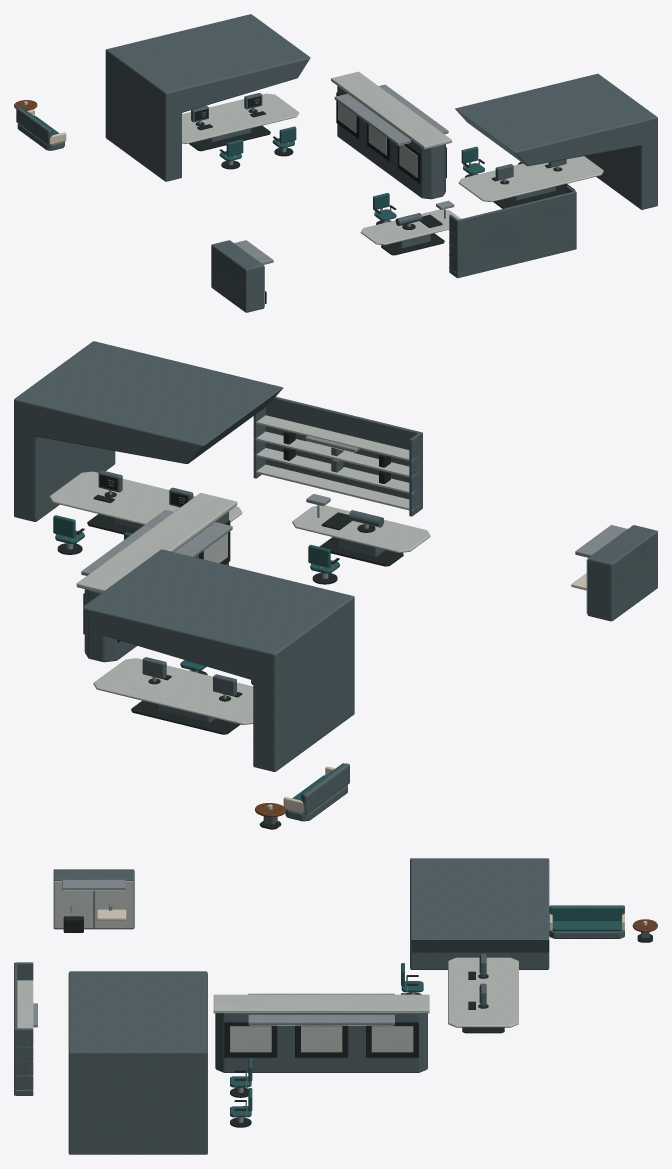
File: D18_directory_07.glb
3 renders of one model, top to bottom at view 1: azimuth 30°, elevation 25°; view 2: azimuth 150°, elevation 25°; view 3: azimuth 270°, elevation 25°, orthographic. The views are drawn at different scales.
Visible parts, largest first — view 1: A_ForeTaskHood, A_AftTaskHood, A_AstrometricRecords_back, A_AftPrecisionBench_top, A_AstrometricCare_carcass, A_ReferenceSpine, A_ReferenceSpineCrown, A_ForePrecisionBench_top, A_CalibrationBench_top, A_PortSpineLight_body, A_ForePrecisionBench_shoe, A_QuietWatchBreak_backframe (+4 smaller); view 2: A_ForeTaskHood, A_AftTaskHood, A_AstrometricRecords_back, A_ForePrecisionBench_top, A_AstrometricCare_carcass, A_ReferenceSpineCrown, A_AftPrecisionBench_top, A_CalibrationBench_top, A_AstrometricRecords_shelf0, A_AstrometricRecords_shelf3, A_ReferenceSpine, A_AstrometricRecords_shelf1 (+7 smaller); view 3: A_AftTaskHood, A_ForeTaskHood, A_ReferenceSpine, A_ForePrecisionBench_top, A_ReferenceSpineCrown, A_StarboardSpineLight_body, A_AstrometricCare_door1, A_AstrometricCare_door0, A_AstrometricCare_carcass, A_AstrometricRecords_end1, A_StarboardReferenceSheet0, A_StarboardReferenceSheet2 (+10 smaller).
Part boxes in pixels (bbox=[...]): A_ForeTaskHood: bbox=[105, 14, 310, 181]; A_AftTaskHood: bbox=[455, 73, 657, 209]; A_AstrometricRecords_back: bbox=[456, 191, 576, 278]; A_AftPrecisionBench_top: bbox=[458, 156, 603, 201]; A_AstrometricCare_carcass: bbox=[211, 240, 264, 312]; A_ReferenceSpine: bbox=[337, 86, 445, 199]; A_ReferenceSpineCrown: bbox=[331, 71, 451, 149]; A_ForePrecisionBench_top: bbox=[182, 93, 299, 143]; A_CalibrationBench_top: bbox=[360, 209, 460, 245]; A_PortSpineLight_body: bbox=[334, 93, 410, 145]; A_ForePrecisionBench_shoe: bbox=[189, 125, 270, 151]; A_QuietWatchBreak_backframe: bbox=[16, 107, 51, 145]; A_ForeTaskHood: bbox=[83, 549, 354, 771]; A_AftTaskHood: bbox=[14, 341, 283, 521]; A_AstrometricRecords_back: bbox=[265, 396, 422, 508]; A_ForePrecisionBench_top: bbox=[93, 658, 253, 724]; A_AstrometricCare_carcass: bbox=[587, 525, 657, 621]; A_ReferenceSpineCrown: bbox=[76, 493, 237, 592]; A_AftPrecisionBench_top: bbox=[49, 471, 242, 524]; A_CalibrationBench_top: bbox=[292, 505, 430, 552]; A_AstrometricRecords_shelf0: bbox=[253, 464, 420, 510]; A_AstrometricRecords_shelf3: bbox=[253, 415, 420, 461]; A_ReferenceSpine: bbox=[84, 511, 228, 662]; A_AstrometricRecords_shelf1: bbox=[253, 448, 415, 494]; A_AftTaskHood: bbox=[68, 971, 207, 1154]; A_ForeTaskHood: bbox=[410, 858, 549, 969]; A_ReferenceSpine: bbox=[215, 1013, 427, 1072]; A_ForePrecisionBench_top: bbox=[448, 957, 518, 1027]; A_ReferenceSpineCrown: bbox=[213, 994, 429, 1013]; A_StarboardSpineLight_body: bbox=[248, 1014, 394, 1024]; A_AstrometricCare_door1: bbox=[54, 881, 93, 928]; A_AstrometricCare_door0: bbox=[94, 881, 133, 928]; A_AstrometricCare_carcass: bbox=[53, 869, 134, 929]; A_AstrometricRecords_end1: bbox=[15, 1028, 33, 1095]; A_StarboardReferenceSheet0: bbox=[371, 1026, 413, 1052]; A_StarboardReferenceSheet2: bbox=[230, 1026, 271, 1052].
Size of the model in its own units: 22.1 by 4.5 by 25.46.
Materials: 8 (8 with a texture image).
